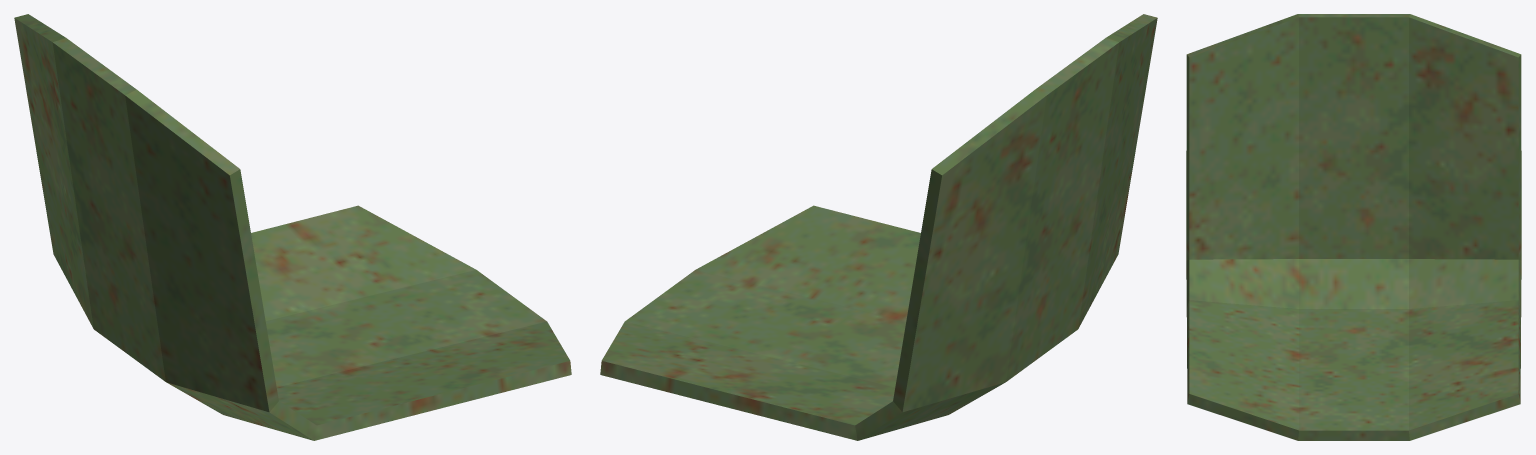
The model's file is Urban_BusstopSingleSeatLooseAlt_Model.fbx.
3 views of the same model, side by side, from view 1: azimuth 30°, elevation 25°; view 2: azimuth 150°, elevation 25°; view 3: azimuth 270°, elevation 25° (orthographic). The views are drawn at different scales.
Parts seen in each view (by area): view 1: Urban_BusstopSingleSeatLooseAlt_Mesh; view 2: Urban_BusstopSingleSeatLooseAlt_Mesh; view 3: Urban_BusstopSingleSeatLooseAlt_Mesh.
Part boxes in pixels (bbox=[...]): Urban_BusstopSingleSeatLooseAlt_Mesh: bbox=[14, 14, 571, 440]; Urban_BusstopSingleSeatLooseAlt_Mesh: bbox=[600, 14, 1157, 440]; Urban_BusstopSingleSeatLooseAlt_Mesh: bbox=[1186, 14, 1521, 440].
Bounding box in the file's own units: 0.692 × 0.54 × 0.6118.
